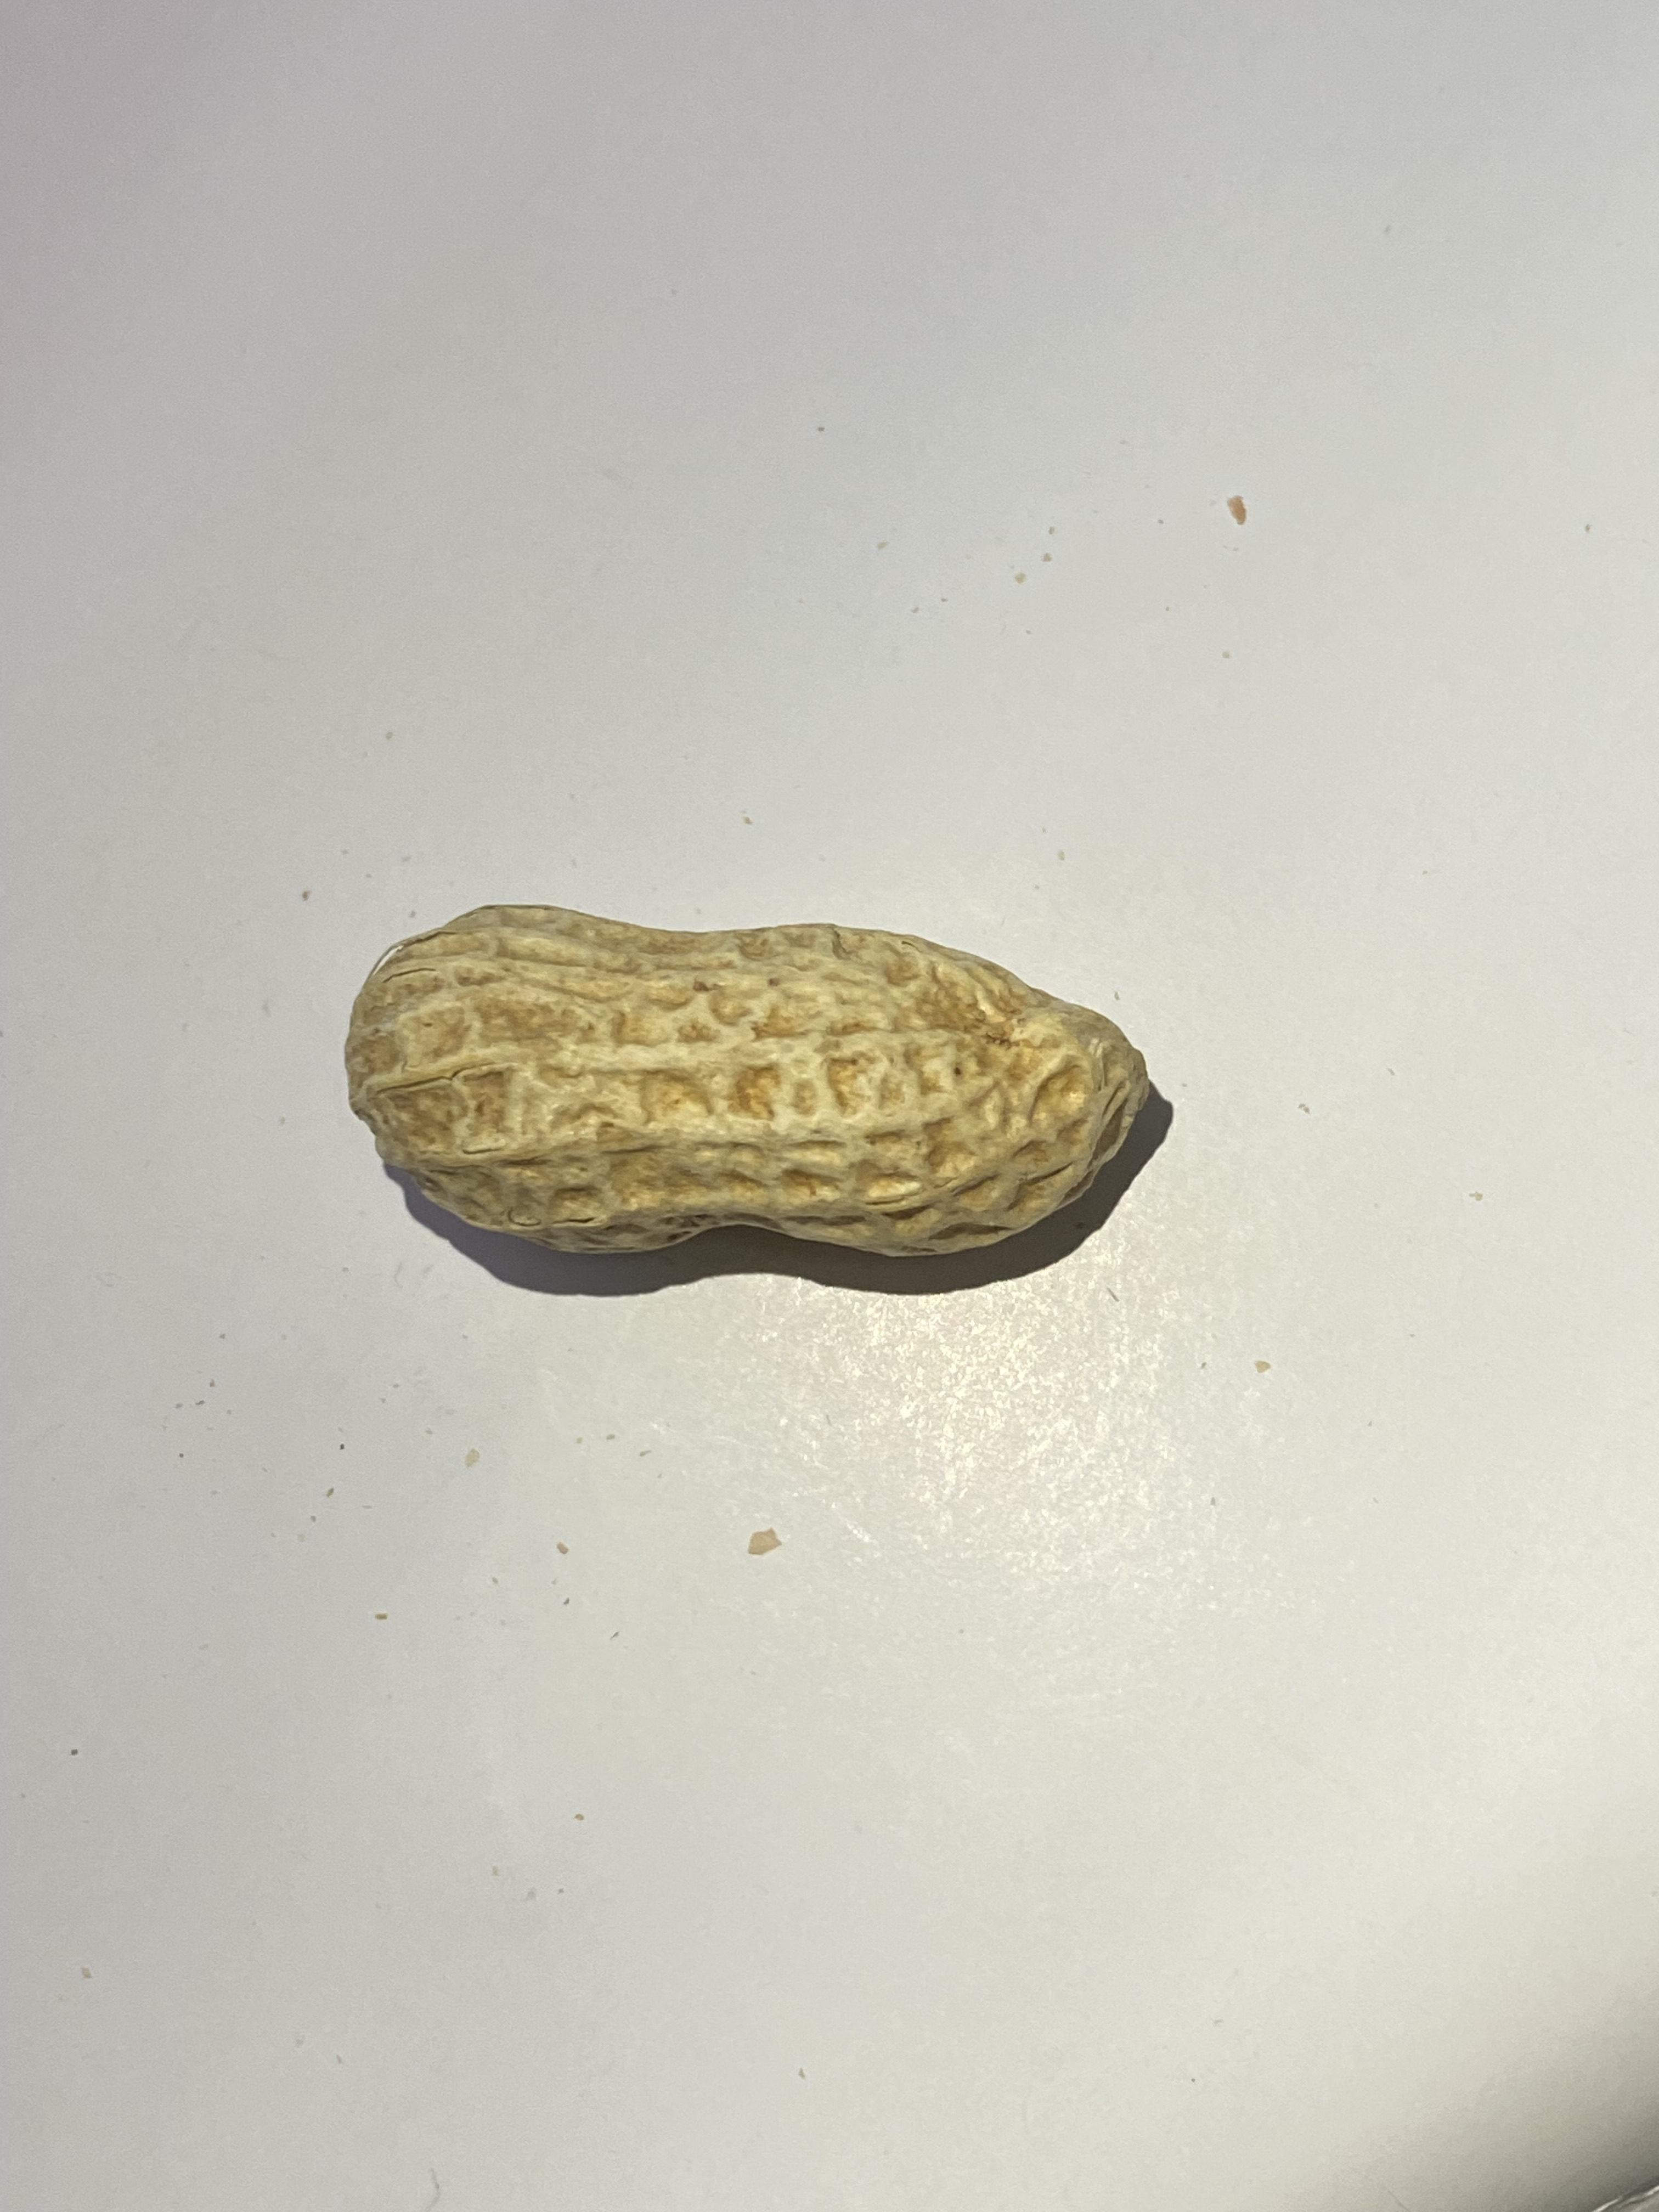kacang2: (300, 890, 1188, 1294)
